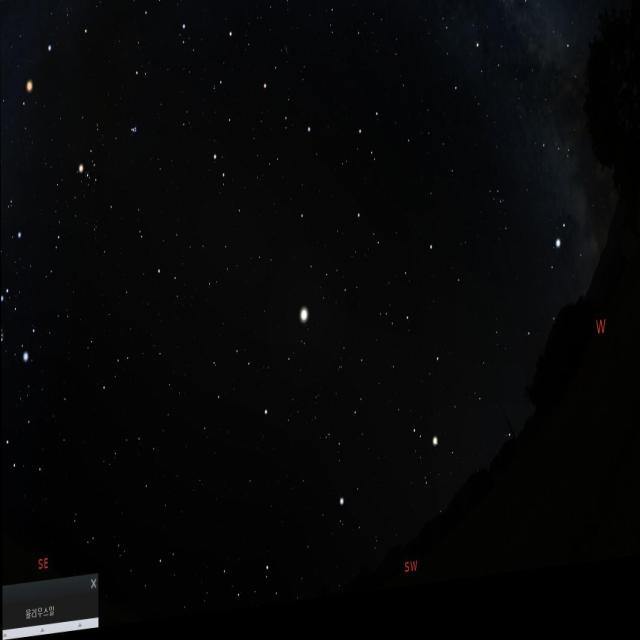cygnus: (460, 0, 580, 108)
pleiades: (127, 117, 141, 141)
taurus: (70, 95, 138, 214)
